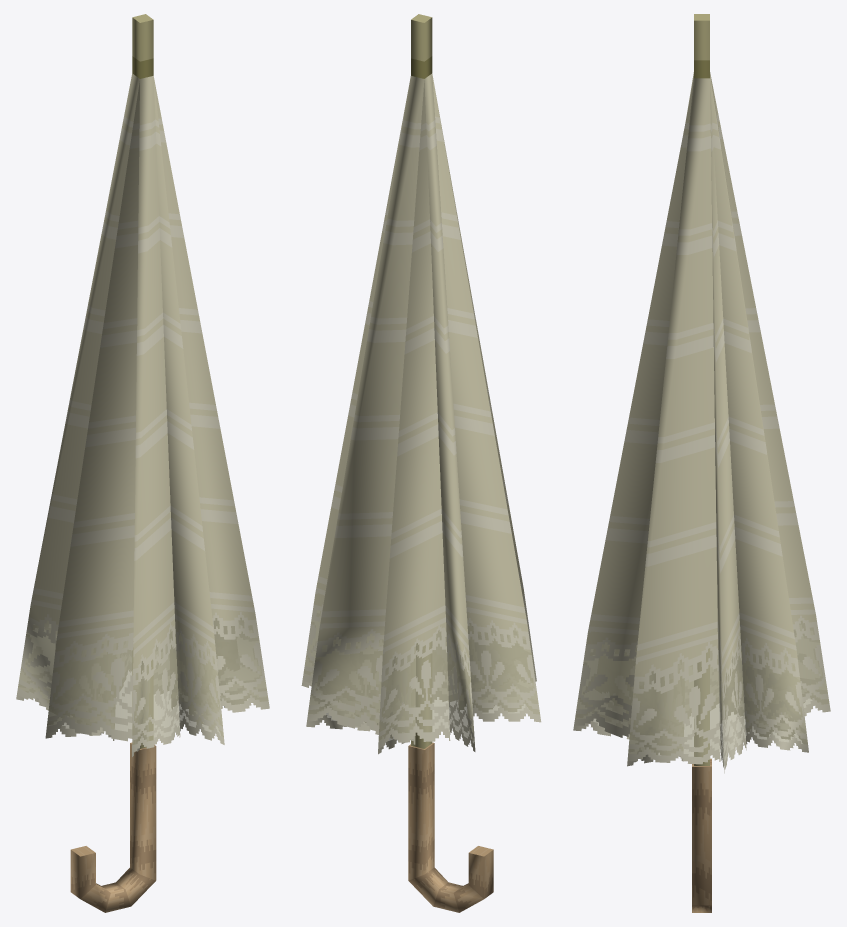
The model's file is 00c0_Parasol.glb.
3 views of the same model, side by side, from view 1: azimuth 30°, elevation 25°; view 2: azimuth 150°, elevation 25°; view 3: azimuth 270°, elevation 25° (orthographic). The views are drawn at different scales.
Parts seen in each view (by area): view 1: part_0; view 2: part_0; view 3: part_0.
Part boxes in pixels (left/top/right/bottom): part_0: left=16, top=14, right=269, bottom=912; part_0: left=301, top=14, right=541, bottom=912; part_0: left=573, top=14, right=830, bottom=912.
Bounding box in the file's own units: 0.3238 × 1.24 × 0.3239.
1 material, 1 textured.
